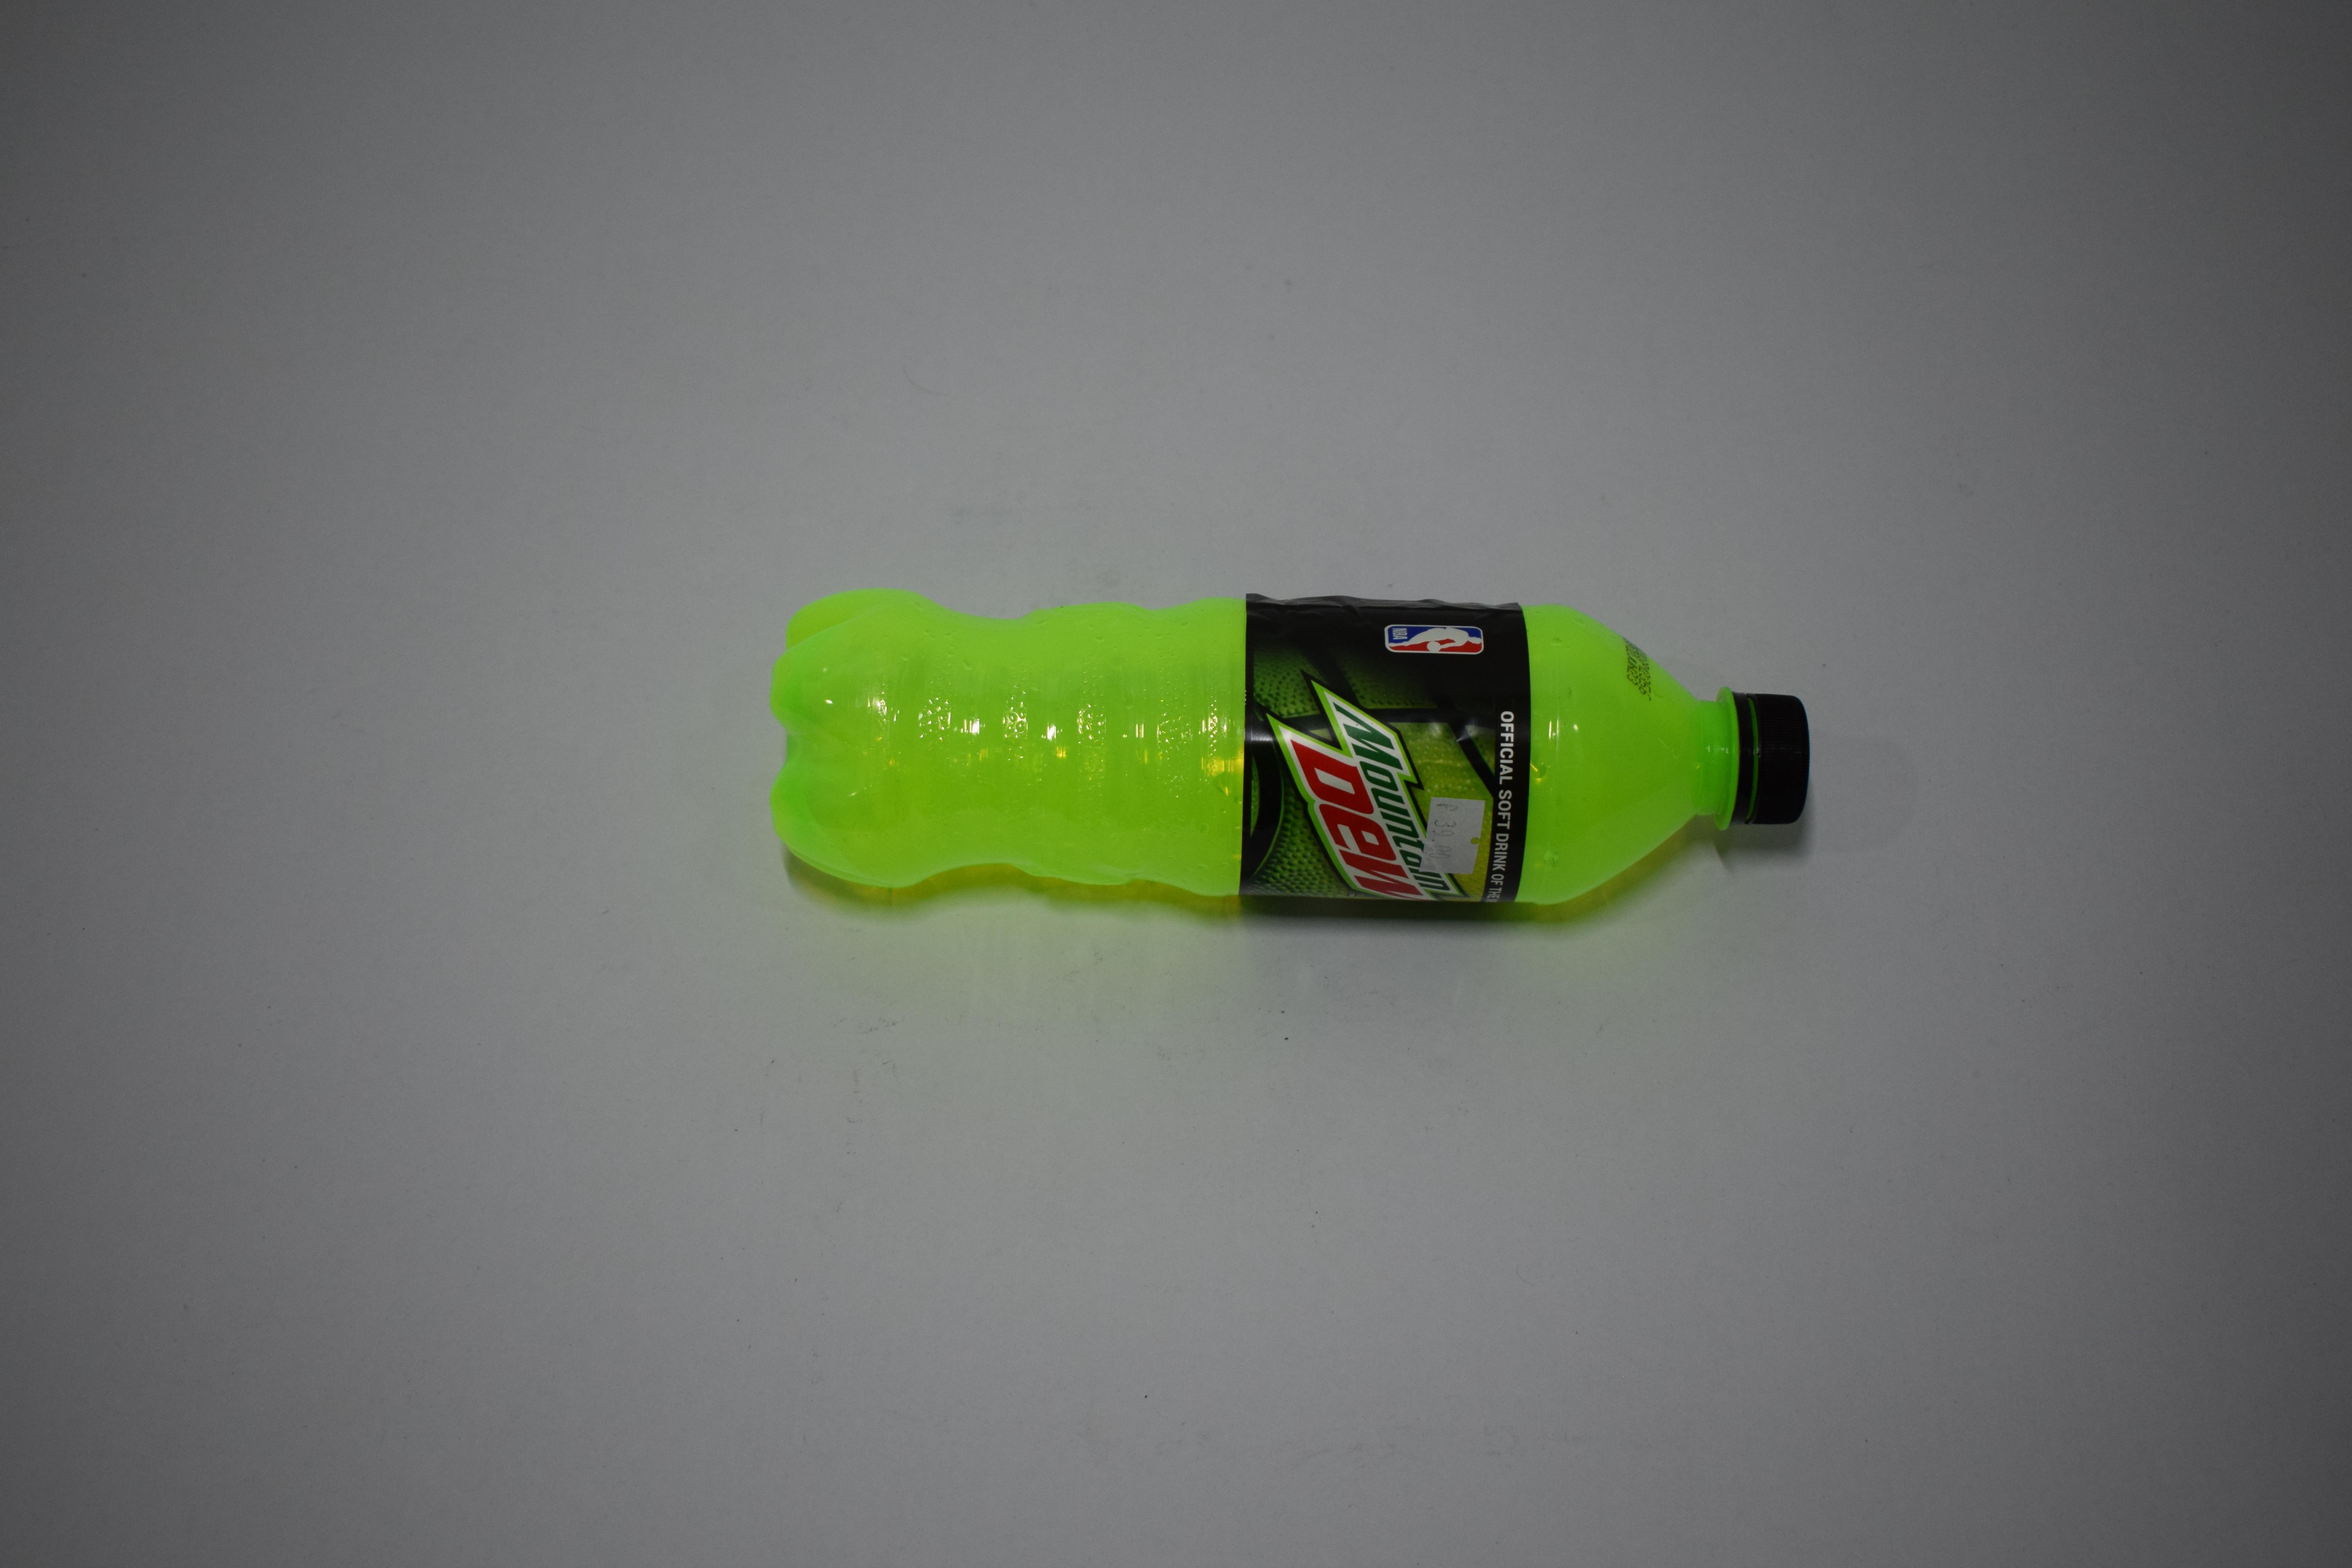bottle: (0, 581, 642, 926)
